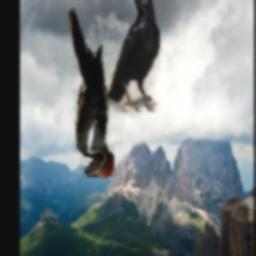Crow: (107, 0, 161, 112)
Woodpecker: (69, 9, 114, 179)
